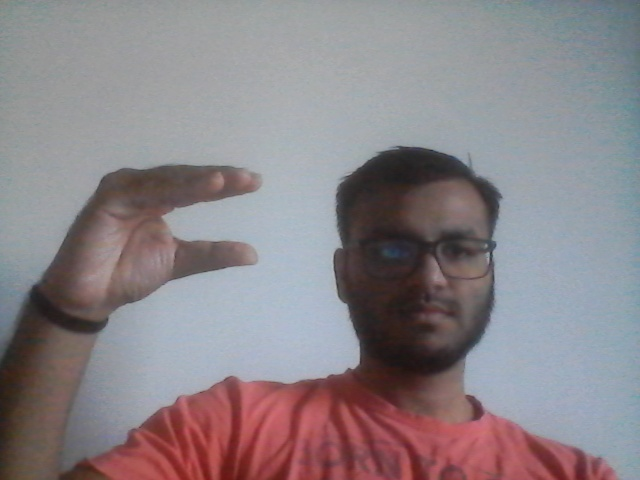No: (36, 155, 274, 307)
